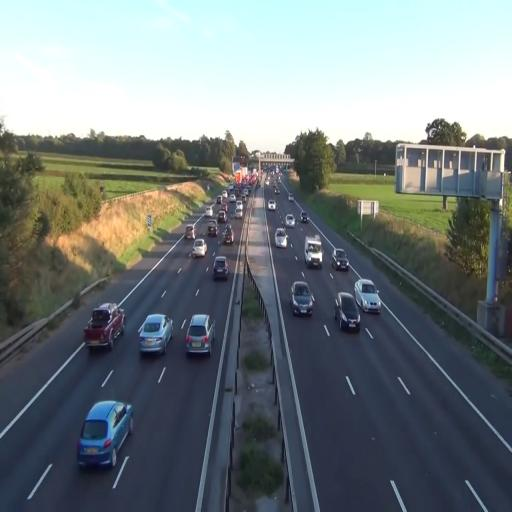vehicle: (77, 399, 133, 469), (83, 304, 125, 350), (138, 314, 173, 354), (184, 314, 212, 354), (334, 292, 360, 332), (354, 279, 382, 315), (290, 280, 314, 316), (212, 255, 231, 281), (332, 248, 350, 270), (192, 238, 207, 258), (274, 228, 288, 249)
